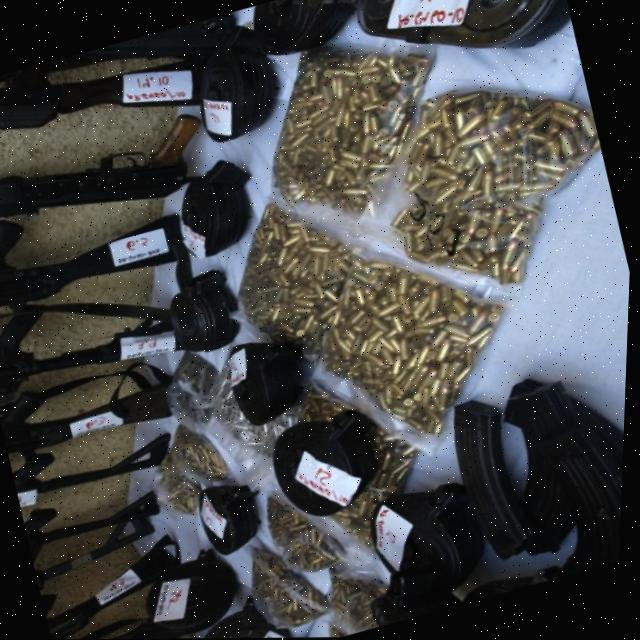firearm: (0, 21, 215, 171), (0, 114, 212, 250), (0, 172, 188, 316), (0, 270, 188, 401), (0, 353, 181, 460), (37, 536, 195, 640), (11, 414, 181, 505), (32, 513, 168, 593), (24, 473, 166, 549)
